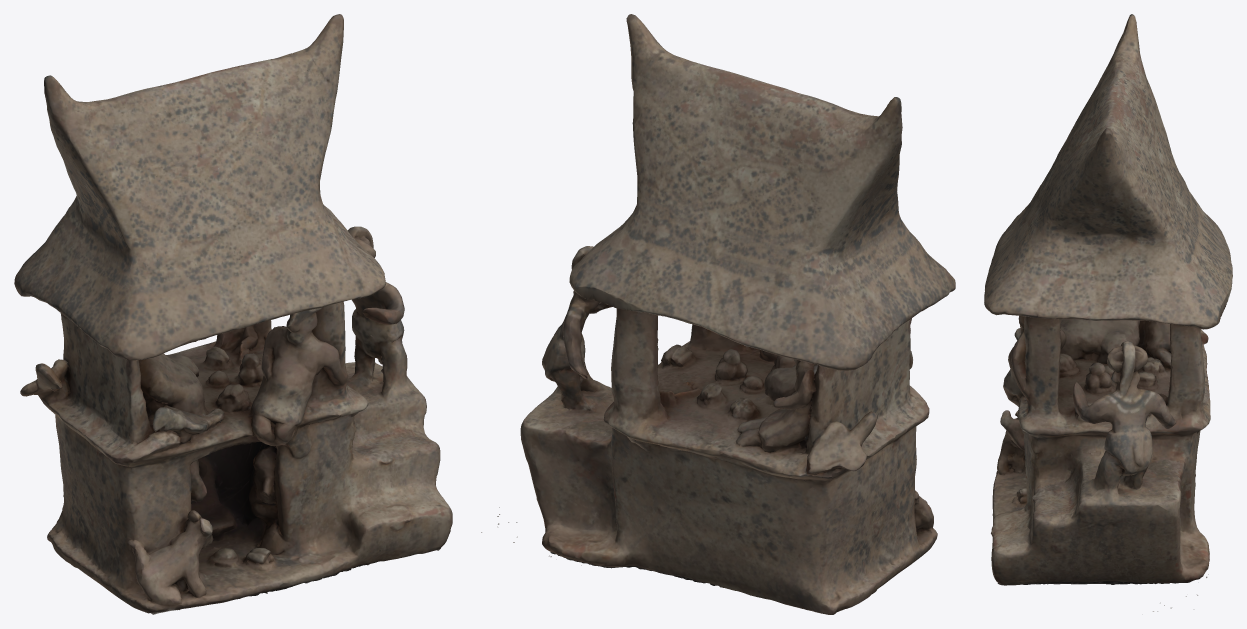
The model's file is nayarit-house.glb.
3 renders of one model, left to right at view 1: azimuth 30°, elevation 25°; view 2: azimuth 150°, elevation 25°; view 3: azimuth 270°, elevation 25°, orthographic. The views are drawn at different scales.
Visible parts, largest first — view 1: default_n3d; view 2: default_n3d; view 3: default_n3d.
Boxes of the visible parts, bbox=[...] form: default_n3d: bbox=[14, 14, 452, 614]; default_n3d: bbox=[481, 14, 955, 614]; default_n3d: bbox=[984, 14, 1232, 611].
Bounding box in the file's own units: 0.2427 × 0.2959 × 0.1522.
1 material, 1 textured.
